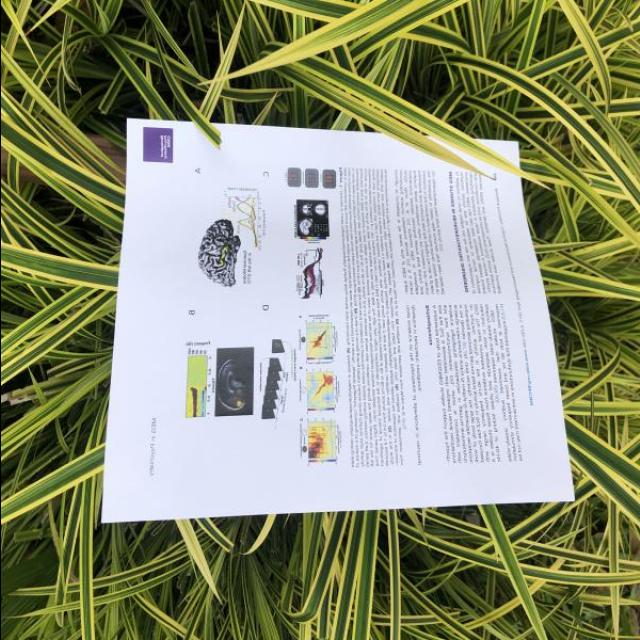kertas: (102, 120, 573, 522)
